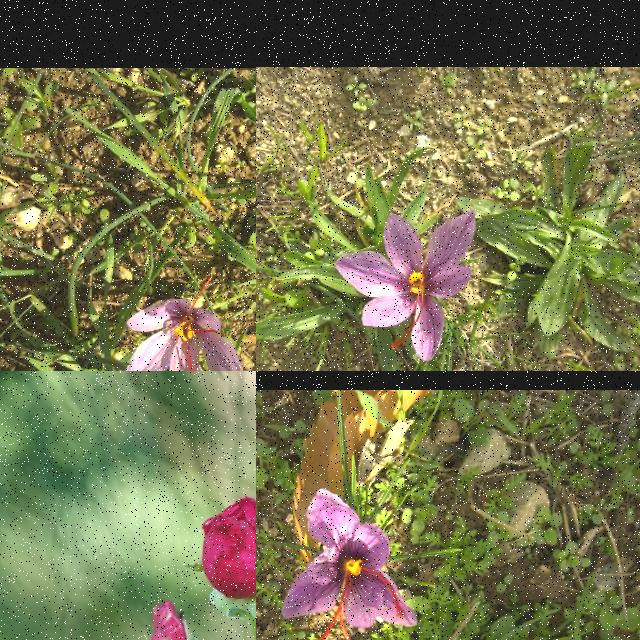flower: (334, 210, 478, 362), (280, 487, 417, 640), (125, 278, 245, 371)
